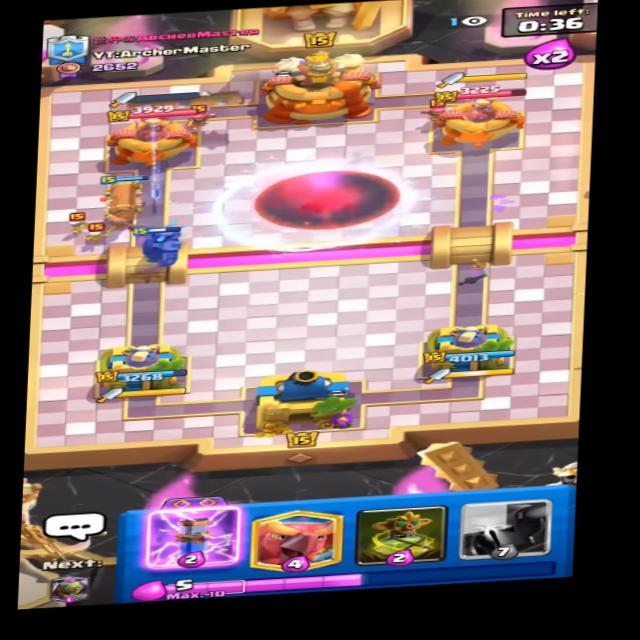archer: (177, 103, 216, 129), (413, 100, 450, 125)
log: (121, 86, 248, 119)
skeleton: (60, 211, 92, 236), (83, 221, 113, 247)
